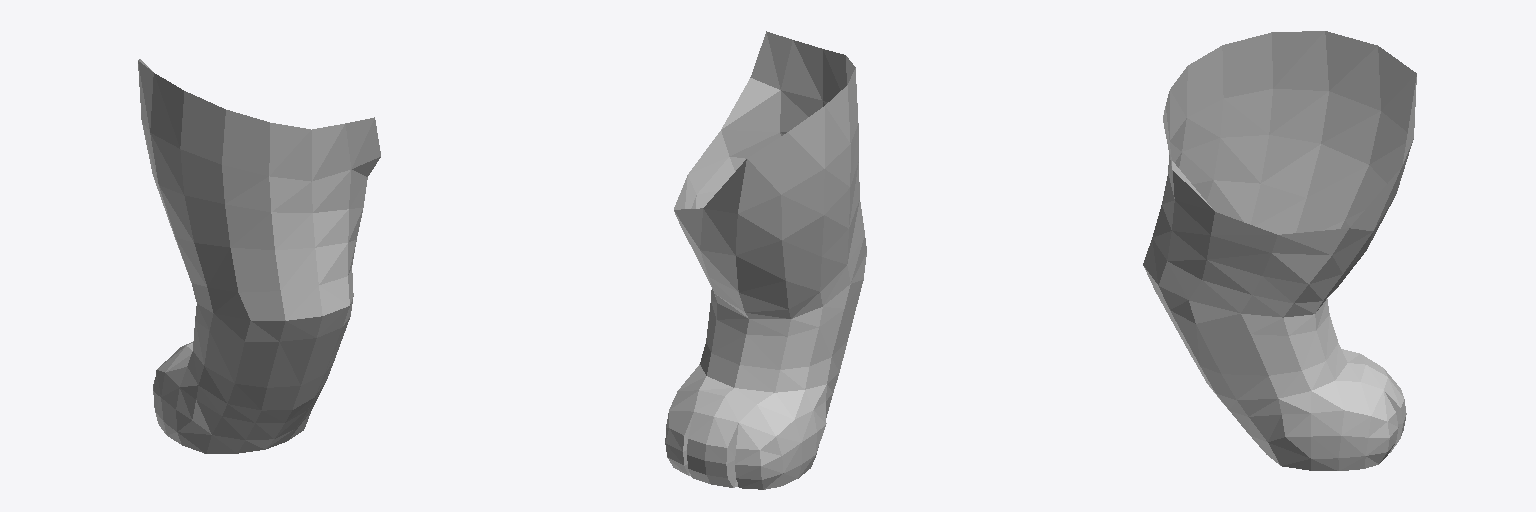
Rendered from izqTrasEevee.obj.
3 views of the same model, side by side, from view 1: azimuth 30°, elevation 25°; view 2: azimuth 150°, elevation 25°; view 3: azimuth 270°, elevation 25° (orthographic).
Visible parts, largest first — view 1: LThigh, LLeg, LFoot, LToe, Hips; view 2: LThigh, LFoot, LToe, LLeg, Hips; view 3: LThigh, LLeg, LFoot, LToe.
Boxes of the visible parts, <box> form: LThigh: <box>138,59,350,247</box>; LLeg: <box>159,169,367,320</box>; LFoot: <box>174,236,353,410</box>; LToe: <box>153,341,325,453</box>; Hips: <box>346,117,380,176</box>; LThigh: <box>674,40,858,292</box>; LFoot: <box>695,253,866,392</box>; LToe: <box>665,364,838,489</box>; LLeg: <box>674,90,866,291</box>; Hips: <box>721,31,792,129</box>; LThigh: <box>1166,31,1416,272</box>; LLeg: <box>1143,138,1372,312</box>; LFoot: <box>1144,198,1363,399</box>; LToe: <box>1209,349,1406,470</box>.
Size of the model in its own units: 5.18 by 11.39 by 7.58.